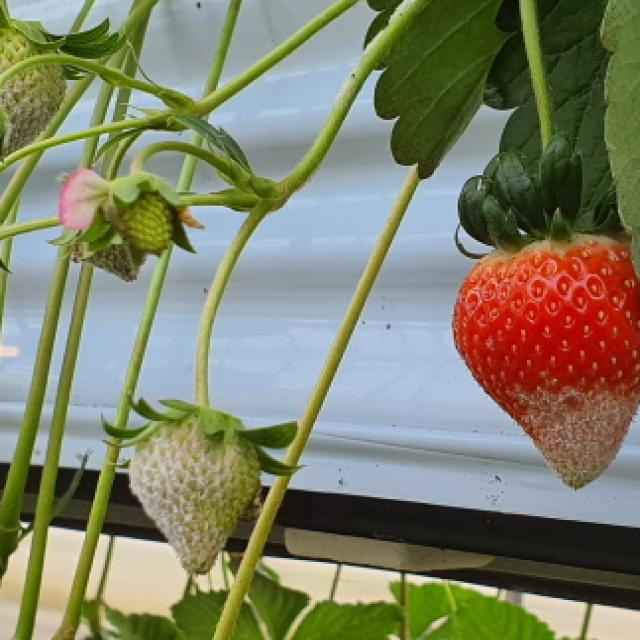Powdery Mildew Fruit: (132, 413, 261, 572), (506, 368, 640, 488), (0, 28, 67, 162)
